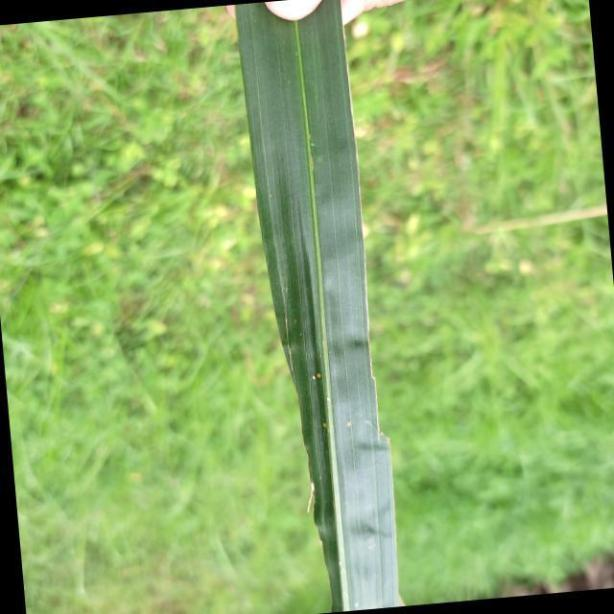Boron: (237, 0, 403, 614)
